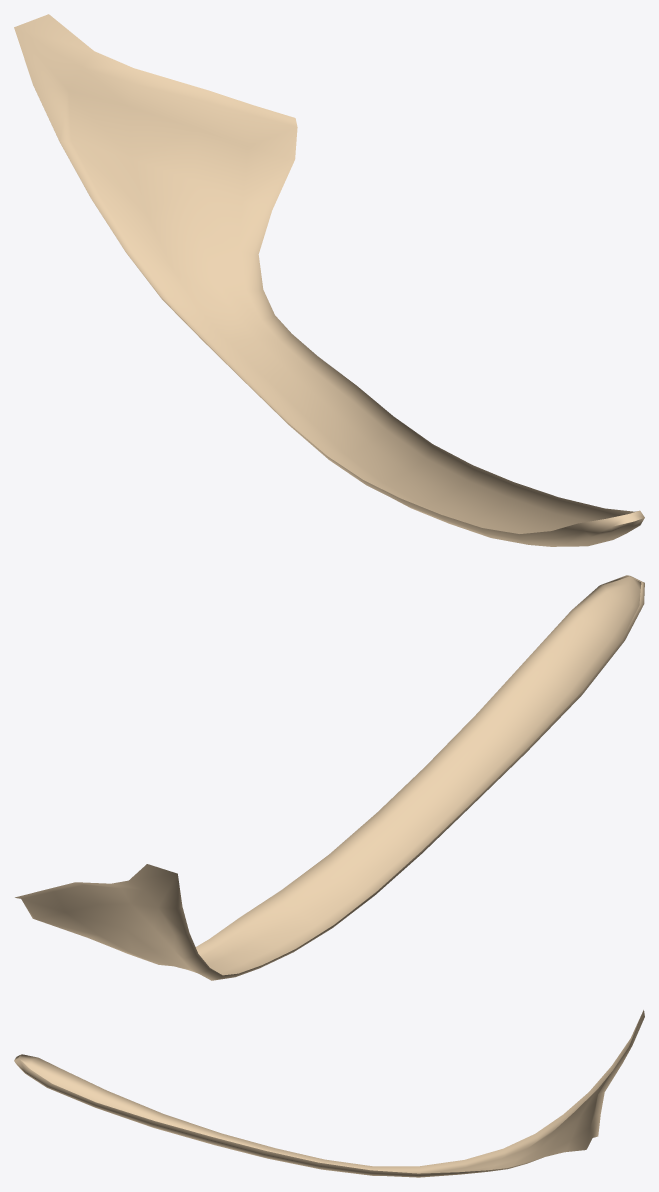
Rendered from L_Olfactory_Nerve01.fbx.
3 views of the same model, one above another, from view 1: azimuth 30°, elevation 25°; view 2: azimuth 150°, elevation 25°; view 3: azimuth 270°, elevation 25° (orthographic). The views are drawn at different scales.
Parts seen in each view (by area): view 1: L_Olfactory_Nerve; view 2: L_Olfactory_Nerve; view 3: L_Olfactory_Nerve.
Part boxes in pixels (bbox=[...]): L_Olfactory_Nerve: bbox=[14, 14, 644, 546]; L_Olfactory_Nerve: bbox=[15, 575, 644, 980]; L_Olfactory_Nerve: bbox=[14, 1010, 644, 1177].
Size of the model in its own units: 0.9276 by 1.01 by 3.92.
